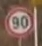limite 90: (3, 7, 35, 38)
